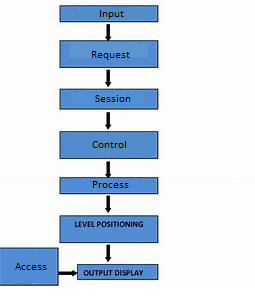arrow: (102, 194, 113, 214), (103, 160, 113, 179), (103, 244, 113, 263), (103, 23, 113, 41), (103, 68, 113, 86), (56, 269, 78, 277), (104, 111, 113, 129)
process: (57, 38, 160, 70), (58, 213, 160, 245), (57, 129, 161, 160), (57, 86, 160, 111), (1, 246, 60, 287), (58, 3, 161, 24), (58, 176, 160, 196), (75, 262, 161, 282)
text: (72, 219, 145, 229), (81, 268, 145, 277), (90, 49, 131, 60), (93, 93, 132, 104), (90, 178, 129, 189), (90, 138, 128, 149), (13, 261, 48, 271), (96, 8, 124, 20)
